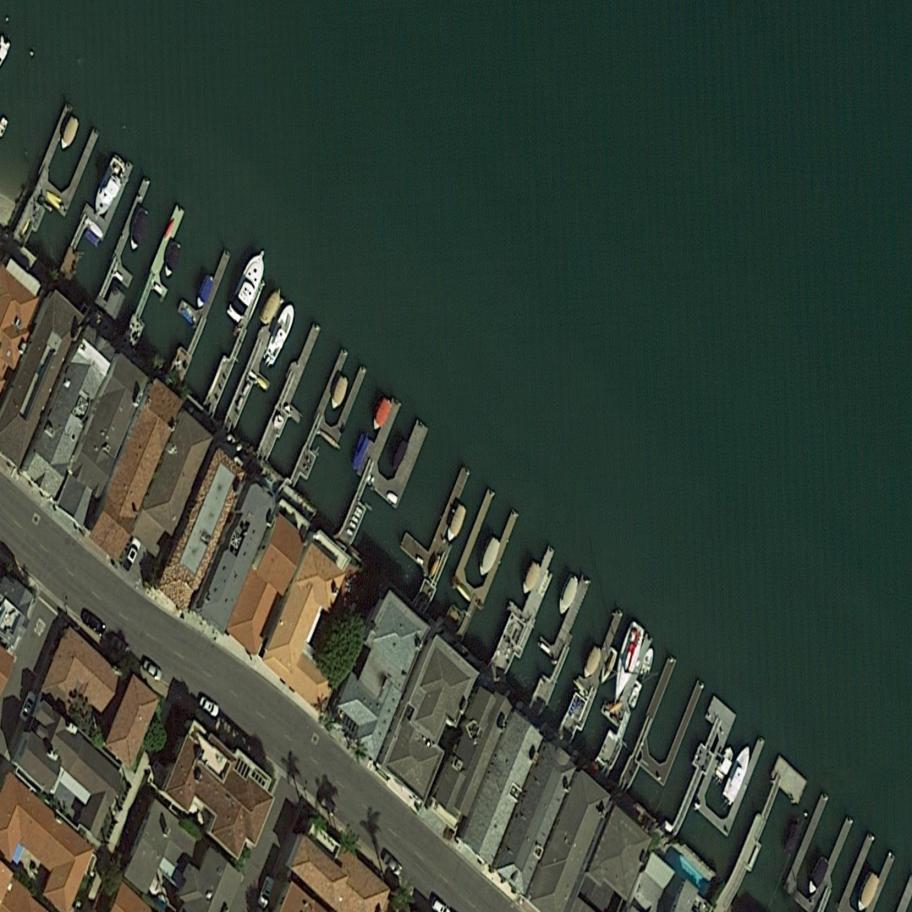ship: (223, 245, 273, 330), (602, 621, 650, 708), (88, 154, 129, 222), (260, 300, 299, 370), (720, 742, 756, 804), (853, 867, 884, 912), (554, 572, 582, 620), (257, 283, 286, 329), (475, 535, 503, 581), (712, 741, 739, 786), (126, 207, 152, 253), (443, 502, 469, 546), (805, 854, 831, 896), (159, 240, 184, 281), (349, 433, 374, 474), (56, 115, 82, 154), (596, 646, 620, 688), (519, 561, 544, 600), (370, 396, 394, 434), (193, 273, 216, 312), (327, 375, 350, 414), (581, 645, 604, 681), (388, 438, 410, 473), (624, 680, 645, 711), (640, 644, 658, 678)
small-vehicle: (77, 608, 111, 638), (119, 535, 144, 574), (377, 851, 407, 881), (15, 689, 40, 724), (137, 657, 168, 685), (255, 875, 278, 910), (195, 694, 224, 719)
